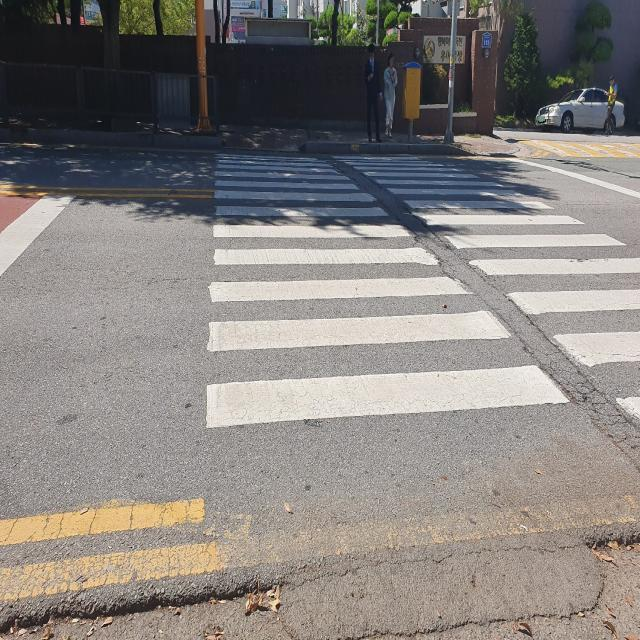횡단보도: (204, 154, 640, 436)
